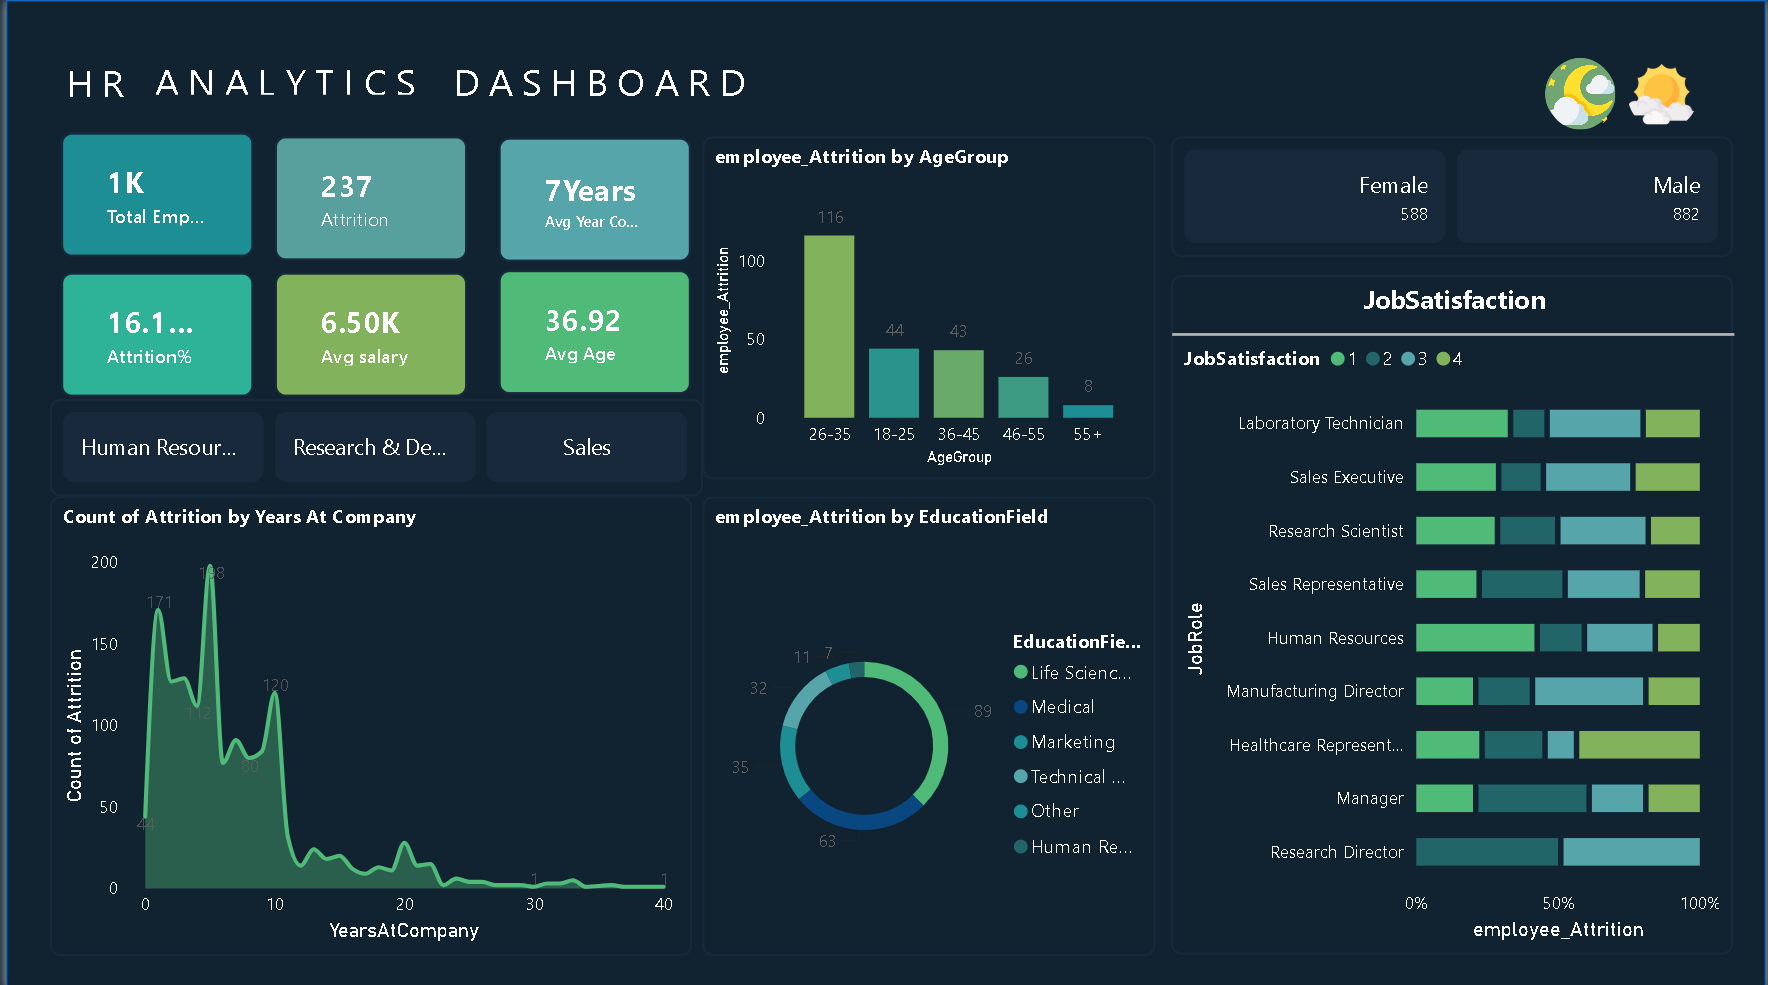

Layout of this report page (visuals, bound fields, positions):
{"tool":"powerbi","page":{"name":"Page 1","canvas":[1280,720],"ordinal":0},"visuals":[{"type":"shape","box":[0,0,1280,720.2],"z":0},{"type":"shape","title":"H R   ","box":[44.8,41.6,55.5,45.8],"z":0,"group":"g1"},{"type":"shape","title":" A N A L Y T I C S ","box":[108.3,41,228,27.7],"z":1000,"group":"g1"},{"type":"image","box":[1061.7,129.1,90.5,44.6],"z":1000},{"type":"shape","title":"D A S H B O A R D","box":[325.5,41,279.9,37.4],"z":2000,"group":"g1"},{"type":"image","box":[857.8,129.1,89.3,44.6],"z":2000},{"type":"advancedSlicerVisual","fields":{"Values":["HR_Analytics.Gender"]},"box":[846.9,98.9,409,88.1],"z":3000},{"type":"cardVisual","fields":{"Data":["HR_Analytics.Employee-count"]},"box":[39.8,96.5,140,90],"z":4000},{"type":"cardVisual","fields":{"Data":["HR_Analytics.employee_attration"]},"box":[195.4,98.9,140,90],"z":5000},{"type":"cardVisual","fields":{"Data":["HR_Analytics.Years_With_Text"]},"box":[358.3,100.1,140,90],"z":6000},{"type":"cardVisual","fields":{"Data":["HR_Analytics.Attrition%","HR_Analytics.Attrition%"]},"box":[39.8,197.9,140,90],"z":7000},{"type":"cardVisual","fields":{"Data":["HR_Analytics.Avg_salary"]},"box":[195.4,197.9,140,90],"z":8000},{"type":"cardVisual","fields":{"Data":["HR_Analytics.Avg_Age"]},"box":[358.3,196.6,140,90],"z":9000},{"type":"areaChart","title":"Count of Attrition by Years At Company","fields":{"Category":["HR_Analytics.YearsAtCompany"],"Y":["CountNonNull(HR_Analytics.Attrition)"]},"box":[31.4,360.7,466.9,334.2],"z":10000},{"type":"donutChart","fields":{"Category":["HR_Analytics.EducationField"],"Y":["HR_Analytics.employee_Attrition"]},"box":[506.7,360.7,329.4,334.2],"z":11000},{"type":"clusteredColumnChart","fields":{"Category":["HR_Analytics.AgeGroup"],"Y":["HR_Analytics.employee_Attrition"]},"box":[506.7,98.9,329.4,249.7],"z":12000},{"type":"hundredPercentStackedBarChart","title":"JobSatisfaction","fields":{"Category":["HR_Analytics.JobRole"],"Series":["HR_Analytics.JobSatisfaction"],"Y":["HR_Analytics.employee_Attrition"]},"box":[846.9,200.3,409,494.6],"z":13000},{"type":"advancedSlicerVisual","fields":{"Values":["HR_Analytics.Department"]},"box":[31.4,289.5,475.3,71.2],"z":14000},{"type":"advancedSlicerVisual","fields":{"Values":["Dark Mode.Label"]},"box":[1114.8,37.4,120.6,62.7],"z":15000},{"type":"group","id":"g1","title":"Group 1","box":[44.8,41,560.6,46.4],"z":16000},{"type":"shape","box":[848.1,224.4,409,37.4],"z":16001}]}

Visuals, with their boxes in screenshot pixels (x1, y1, x2, y2), scaled from the page's 1280x720 canvas onto the 1768x985 screenshot:
shape: locate(0, 0, 1767, 984)
"H R   " shape: locate(62, 57, 139, 120)
" A N A L Y T I C S " shape: locate(150, 56, 465, 94)
image: locate(1466, 177, 1591, 238)
"D A S H B O A R D" shape: locate(450, 56, 836, 107)
image: locate(1185, 177, 1308, 238)
advancedSlicerVisual - HR_Analytics.Gender: locate(1170, 135, 1735, 256)
cardVisual - HR_Analytics.Employee-count: locate(55, 132, 248, 255)
cardVisual - HR_Analytics.employee_attration: locate(270, 135, 463, 258)
cardVisual - HR_Analytics.Years_With_Text: locate(495, 137, 688, 260)
cardVisual - HR_Analytics.Attrition% x HR_Analytics.Attrition%: locate(55, 271, 248, 394)
cardVisual - HR_Analytics.Avg_salary: locate(270, 271, 463, 394)
cardVisual - HR_Analytics.Avg_Age: locate(495, 269, 688, 392)
"Count of Attrition by Years At Company" areaChart: locate(43, 493, 688, 951)
donutChart - HR_Analytics.EducationField x HR_Analytics.employee_Attrition: locate(700, 493, 1155, 951)
clusteredColumnChart - HR_Analytics.AgeGroup x HR_Analytics.employee_Attrition: locate(700, 135, 1155, 477)
"JobSatisfaction" hundredPercentStackedBarChart: locate(1170, 274, 1735, 951)
advancedSlicerVisual - HR_Analytics.Department: locate(43, 396, 700, 493)
advancedSlicerVisual - Dark Mode.Label: locate(1540, 51, 1706, 137)
"Group 1" group: locate(62, 56, 836, 120)
shape: locate(1171, 307, 1736, 358)
